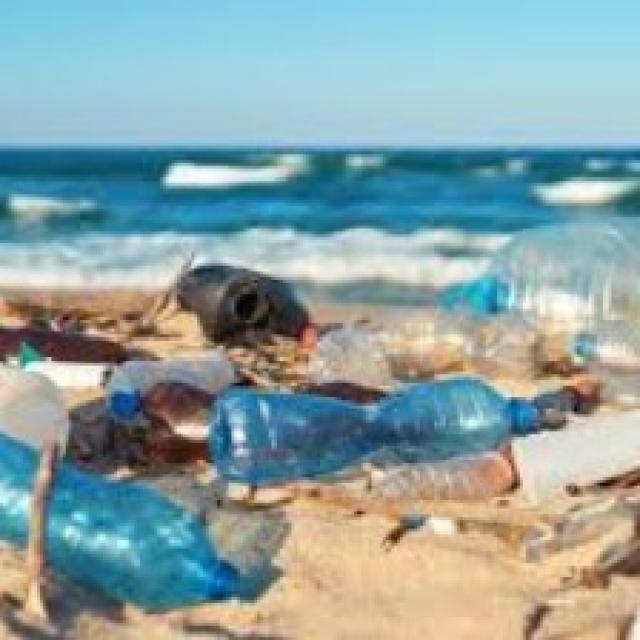plastic: (178, 255, 318, 348)
plastic_bottle: (1, 426, 262, 631), (213, 359, 546, 489), (459, 216, 640, 333), (567, 325, 640, 382)
